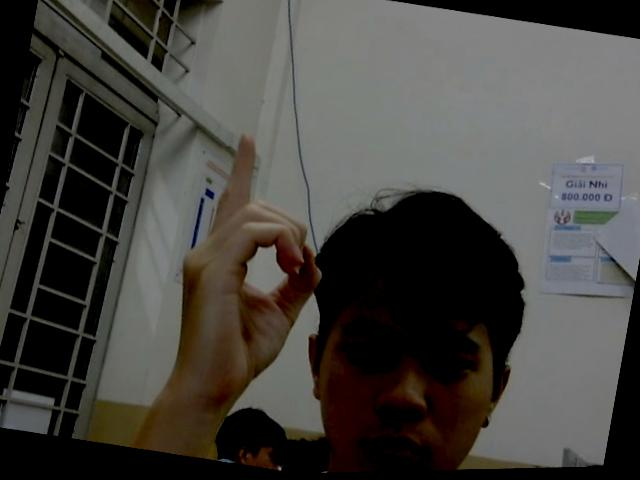D: (158, 124, 343, 415)
